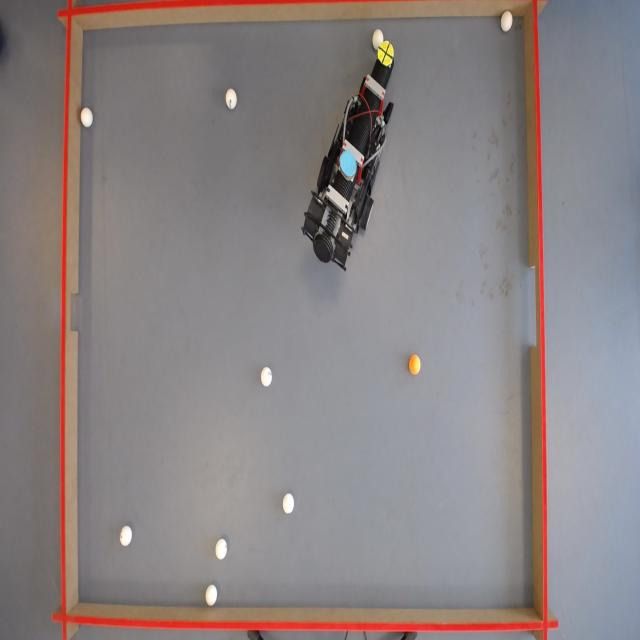orange: (410, 354, 424, 374)
robot: (300, 35, 404, 277)
robot-front: (378, 39, 394, 66)
robot-rear: (340, 148, 358, 180)
white: (205, 584, 219, 608), (281, 492, 295, 514), (119, 525, 132, 547), (215, 538, 228, 560), (500, 10, 513, 32), (224, 90, 237, 110), (80, 107, 93, 127), (262, 365, 274, 386), (372, 28, 383, 49)
